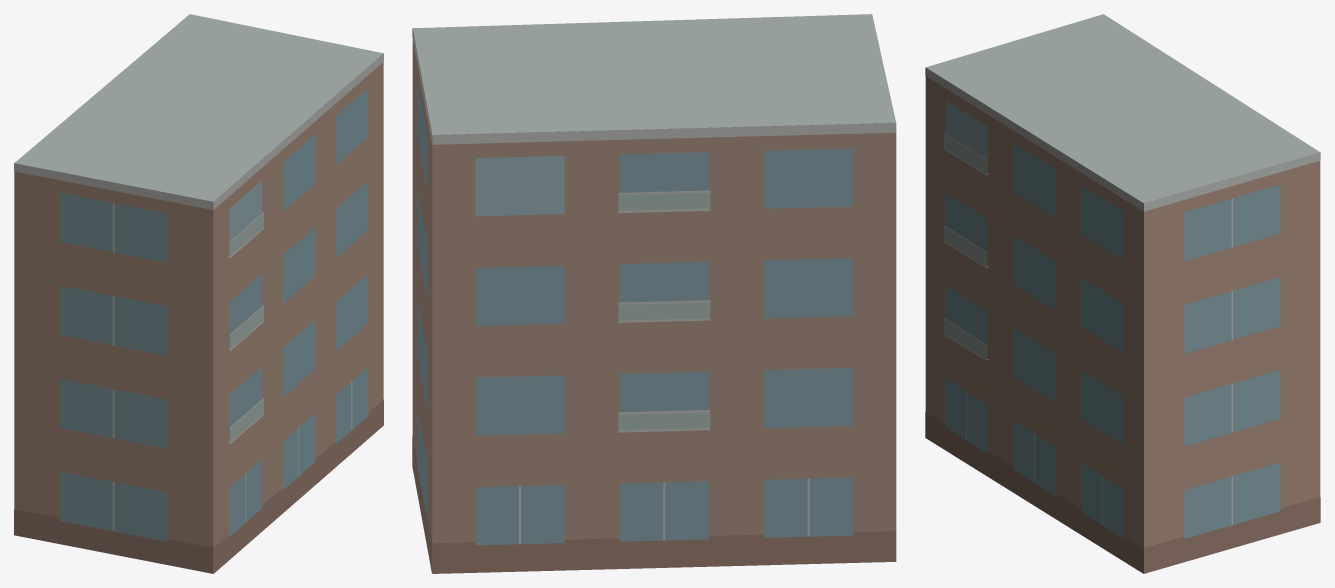
The model's file is survey-upis-32996855.glb.
3 views of the same model, side by side, from view 1: azimuth 30°, elevation 25°; view 2: azimuth 150°, elevation 25°; view 3: azimuth 270°, elevation 25° (orthographic). The views are drawn at different scales.
Visible parts, largest first — view 1: survey-upis-32996855.tmp; view 2: survey-upis-32996855.tmp; view 3: survey-upis-32996855.tmp.
Part boxes in pixels (x1,y1,x2,y2): survey-upis-32996855.tmp: (14, 14, 383, 573); survey-upis-32996855.tmp: (412, 14, 896, 573); survey-upis-32996855.tmp: (925, 14, 1320, 573).
Size of the model in its own units: 12.01 by 10.95 by 10.59.
